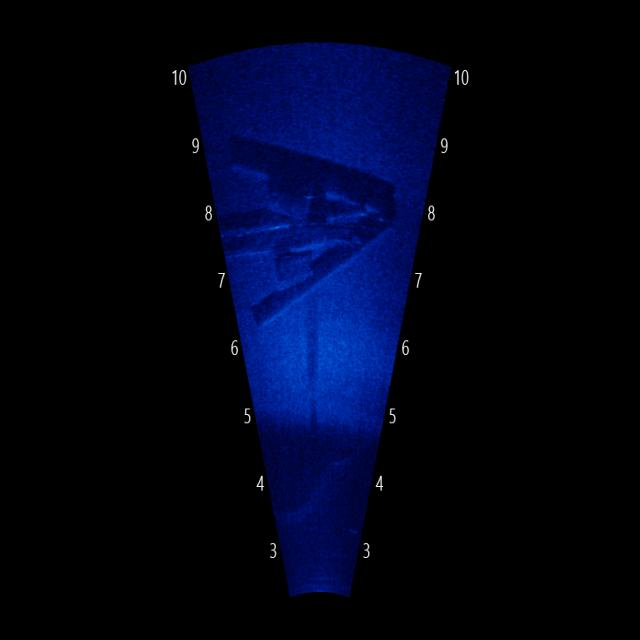triangle: (224, 138, 404, 338)
